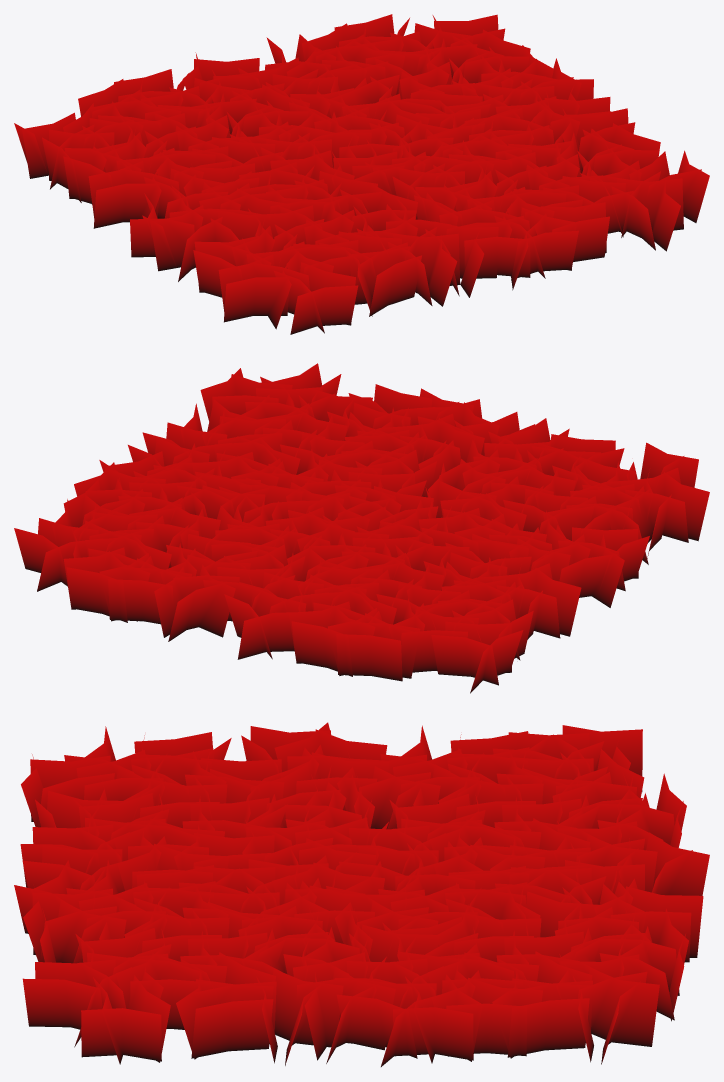
Rendered from SM_grassL_LOD2.FBX.
3 views of the same model, one above another, from view 1: azimuth 30°, elevation 25°; view 2: azimuth 150°, elevation 25°; view 3: azimuth 270°, elevation 25° (orthographic). The views are drawn at different scales.
Visible parts, largest first — view 1: SM_grassL_LOD2; view 2: SM_grassL_LOD2; view 3: SM_grassL_LOD2.
Part boxes in pixels (x1,y1,x2,y2): SM_grassL_LOD2: (14,14,709,334); SM_grassL_LOD2: (14,363,709,693); SM_grassL_LOD2: (14,722,709,1066).
Size of the model in its own units: 1206 by 105 by 1201.
